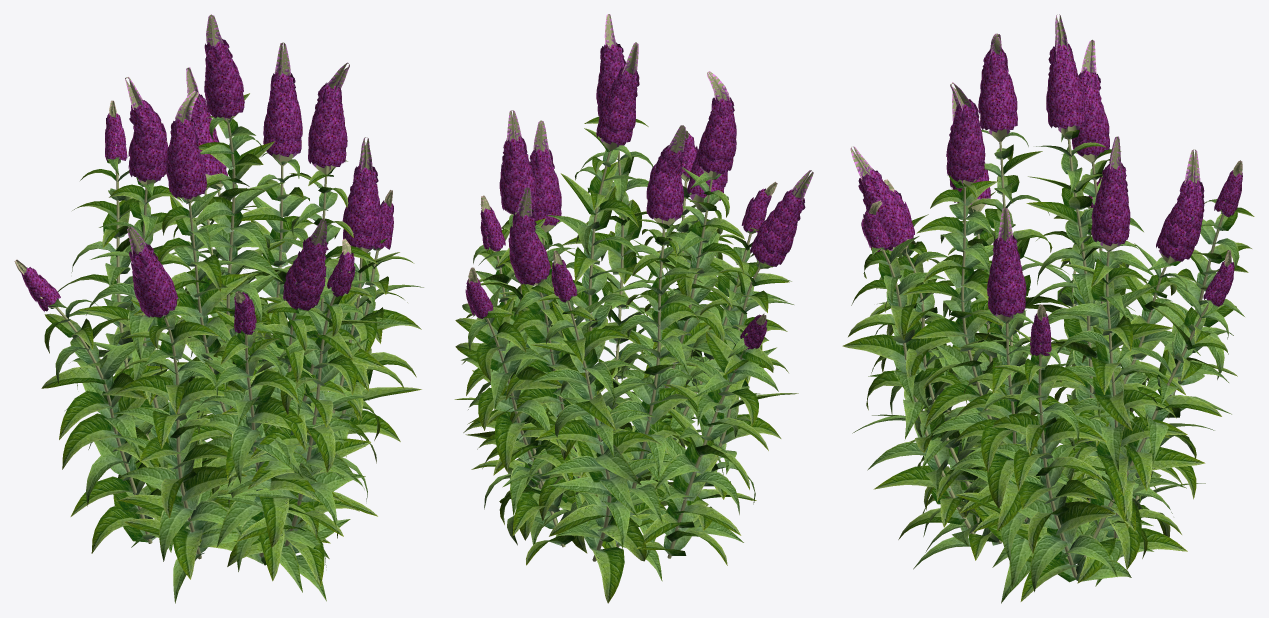
Rendered from BBC Buddleia Birthday Cake.fbx.
The picture shows the model from 3 angles, left to right: view 1: azimuth 30°, elevation 25°; view 2: azimuth 150°, elevation 25°; view 3: azimuth 270°, elevation 25°; orthographic projection. The views are drawn at different scales.
Visible parts, largest first — view 1: LOD0; view 2: LOD0; view 3: LOD0.
Boxes of the visible parts, x1=… form: LOD0: x1=14, y1=14, x2=423, y2=603; LOD0: x1=454, y1=14, x2=813, y2=603; LOD0: x1=842, y1=14, x2=1254, y2=603.
Bounding box in the file's own units: 96.19 × 141 × 95.83.
